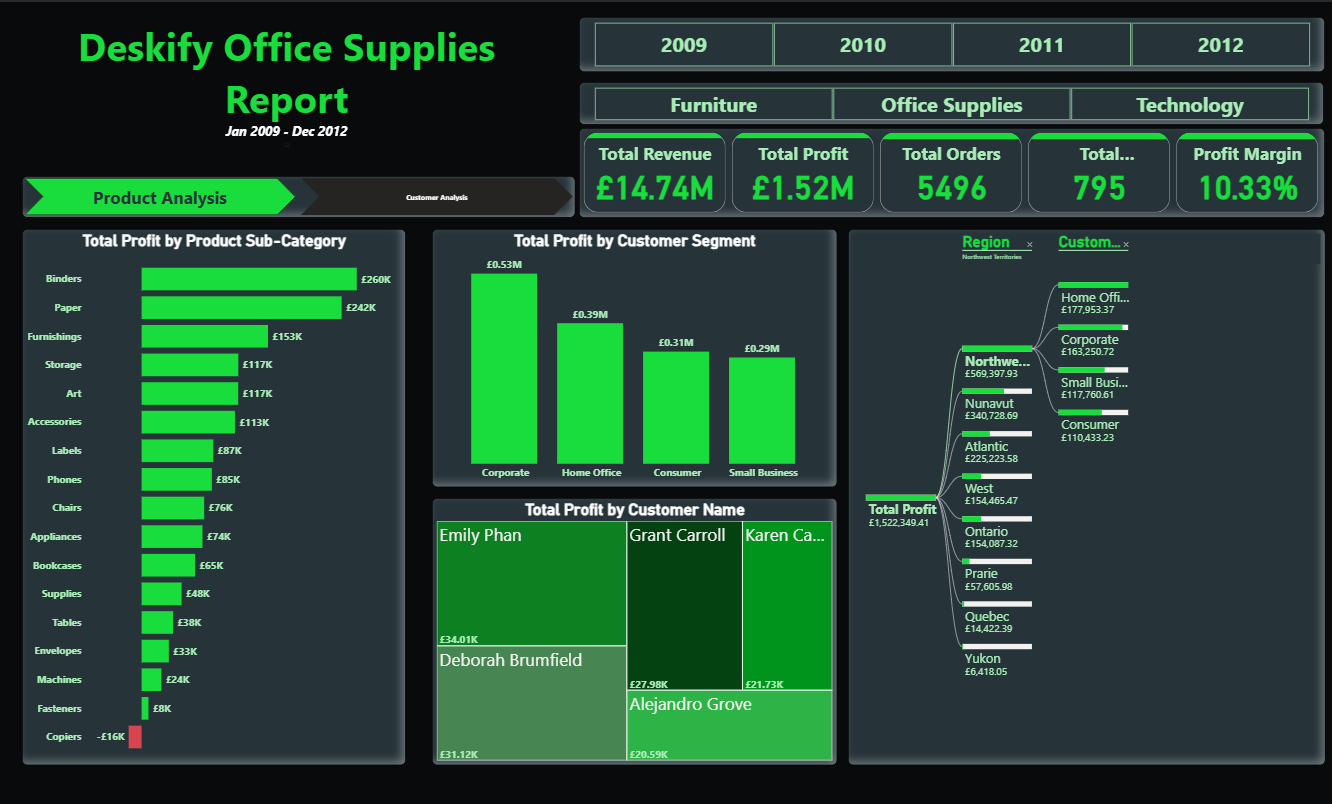

What the dashboard file says about the page in this screenshot:
{"tool":"powerbi","page":{"name":"Customer Analysis","canvas":[2500,1500],"ordinal":1},"visuals":[{"type":"cardVisual","fields":{"Data":["Calculated Measures.Total Revenue","Calculated Measures.Total Profit","Calculated Measures.Total Orders","Calculated Measures.Total Customers","Calculated Measures.Profit Margin"]},"box":[1087.5,235,1395,167.5],"z":0},{"type":"slicer","fields":{"Values":["CalenderDim.Year"]},"box":[1087.5,27.5,1395,102.5],"z":1000},{"type":"slicer","fields":{"Values":["ProductDim.Product Category"]},"box":[1087.5,150,1392.5,80],"z":2000},{"type":"pageNavigator","box":[45,325,1035,77.5],"z":3000},{"type":"clusteredColumnChart","fields":{"Category":["CustomerDim.Customer Segment"],"Y":["Calculated Measures.Total Profit"]},"box":[812.5,425,757.5,482.5],"z":4000},{"type":"decompositionTreeVisual","fields":{"Analyze":["Calculated Measures.Total Profit"],"ExplainBy":["LocationDim.Region","CustomerDim.Customer Segment"]},"box":[1590,425,892.5,1002.5],"z":5000},{"type":"treemap","fields":{"Values":["Calculated Measures.Total Profit"],"Group":["CustomerDim.Customer Name"]},"box":[812.5,927.5,757.5,500],"z":6000},{"type":"barChart","fields":{"Y":["Calculated Measures.Total Profit"],"Category":["ProductDim.Product Sub-Category"]},"box":[45,425,717.5,1002.5],"z":7000},{"type":"textbox","box":[22.5,27.5,1035,257.5],"z":8000}]}

Visuals, with their boxes in screenshot pixels (x1, y1, x2, y2), scaled from the page's 2500x1500 canvas onto the 1332x804 screenshot:
cardVisual - Calculated Measures.Total Revenue x Calculated Measures.Total Profit: 579 126 1323 216
slicer - CalenderDim.Year: 579 15 1323 70
slicer - ProductDim.Product Category: 579 80 1321 123
pageNavigator: 24 174 575 216
clusteredColumnChart - CustomerDim.Customer Segment x Calculated Measures.Total Profit: 433 228 836 486
decompositionTreeVisual - Calculated Measures.Total Profit x LocationDim.Region: 847 228 1323 765
treemap - Calculated Measures.Total Profit x CustomerDim.Customer Name: 433 497 836 765
barChart - Calculated Measures.Total Profit x ProductDim.Product Sub-Category: 24 228 406 765
textbox: 12 15 563 153
